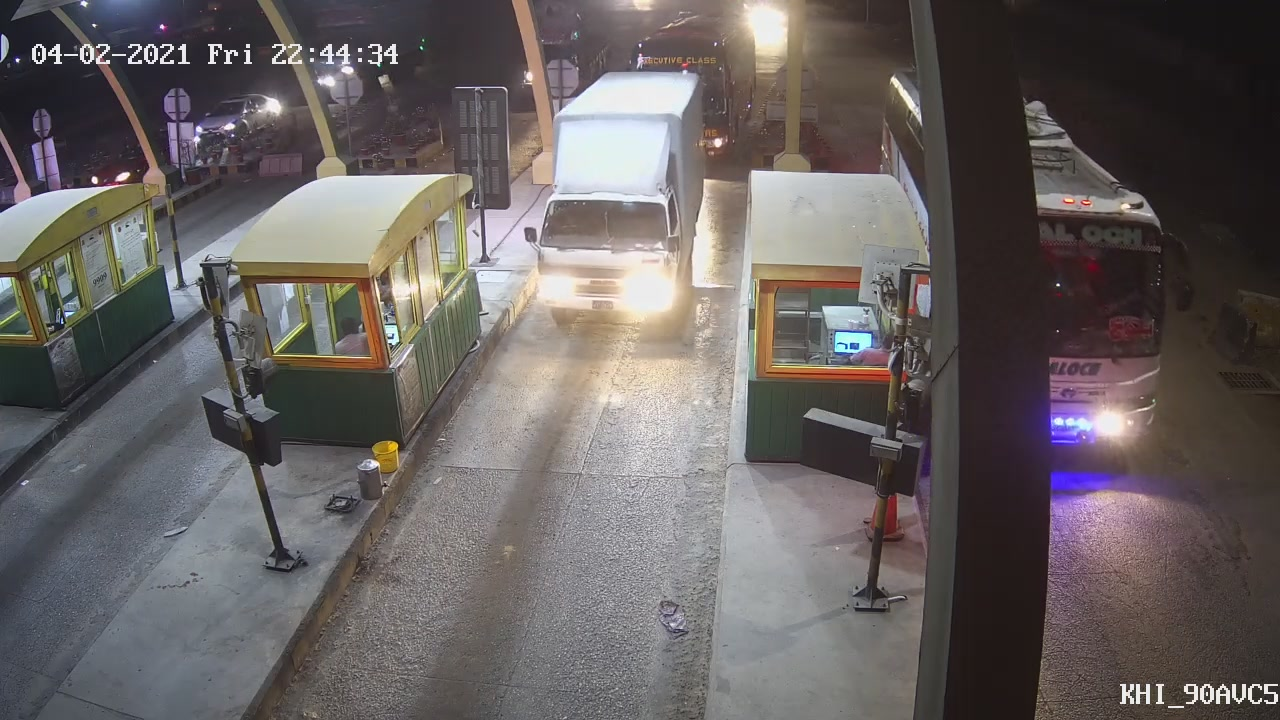F5: (515, 85, 710, 333)
